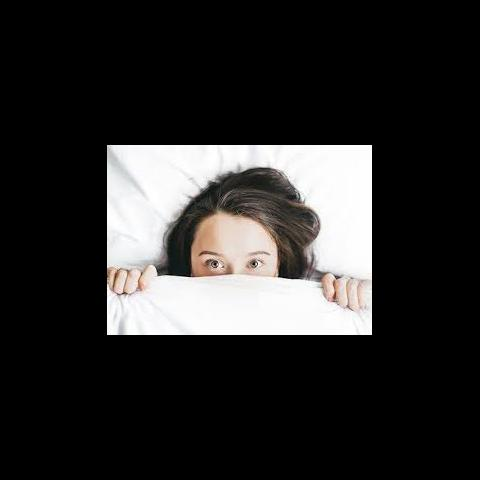opened: (194, 248, 276, 274)
